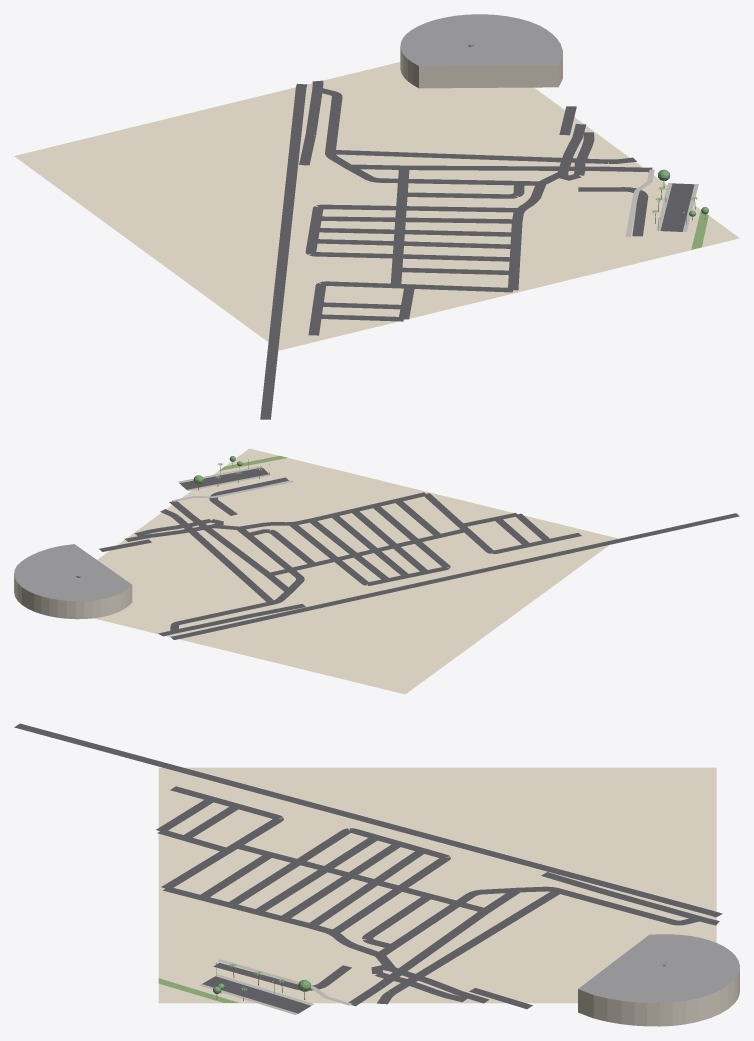
Rendered from tile_1_1.glb.
3 views of the same model, one above another, from view 1: azimuth 30°, elevation 25°; view 2: azimuth 150°, elevation 25°; view 3: azimuth 270°, elevation 25° (orthographic). The views are drawn at different scales.
Visible parts, largest first — view 1: nature_ground, roads_asphalt, buildings_roof, buildings_concrete_warm, roads_sidewalk; view 2: nature_ground, roads_asphalt, buildings_roof, buildings_concrete_warm, roads_sidewalk; view 3: nature_ground, roads_asphalt, buildings_roof, buildings_concrete_warm, roads_sidewalk.
Boxes of the visible parts, x1,y1,x2,y2 form: nature_ground: [14, 62, 739, 350]; roads_asphalt: [260, 80, 694, 419]; buildings_roof: [400, 14, 562, 65]; buildings_concrete_warm: [400, 47, 562, 88]; roads_sidewalk: [625, 169, 698, 236]; nature_ground: [94, 448, 617, 694]; roads_asphalt: [99, 467, 739, 639]; buildings_roof: [14, 544, 131, 601]; buildings_concrete_warm: [14, 575, 132, 619]; roads_sidewalk: [172, 466, 293, 501]; nature_ground: [158, 767, 716, 1003]; roads_asphalt: [14, 723, 722, 1013]; buildings_roof: [578, 934, 739, 1002]; buildings_concrete_warm: [578, 969, 739, 1026]; roads_sidewalk: [199, 959, 352, 1014].
Bounding box in the file's own units: 321 × 12.61 × 325.
